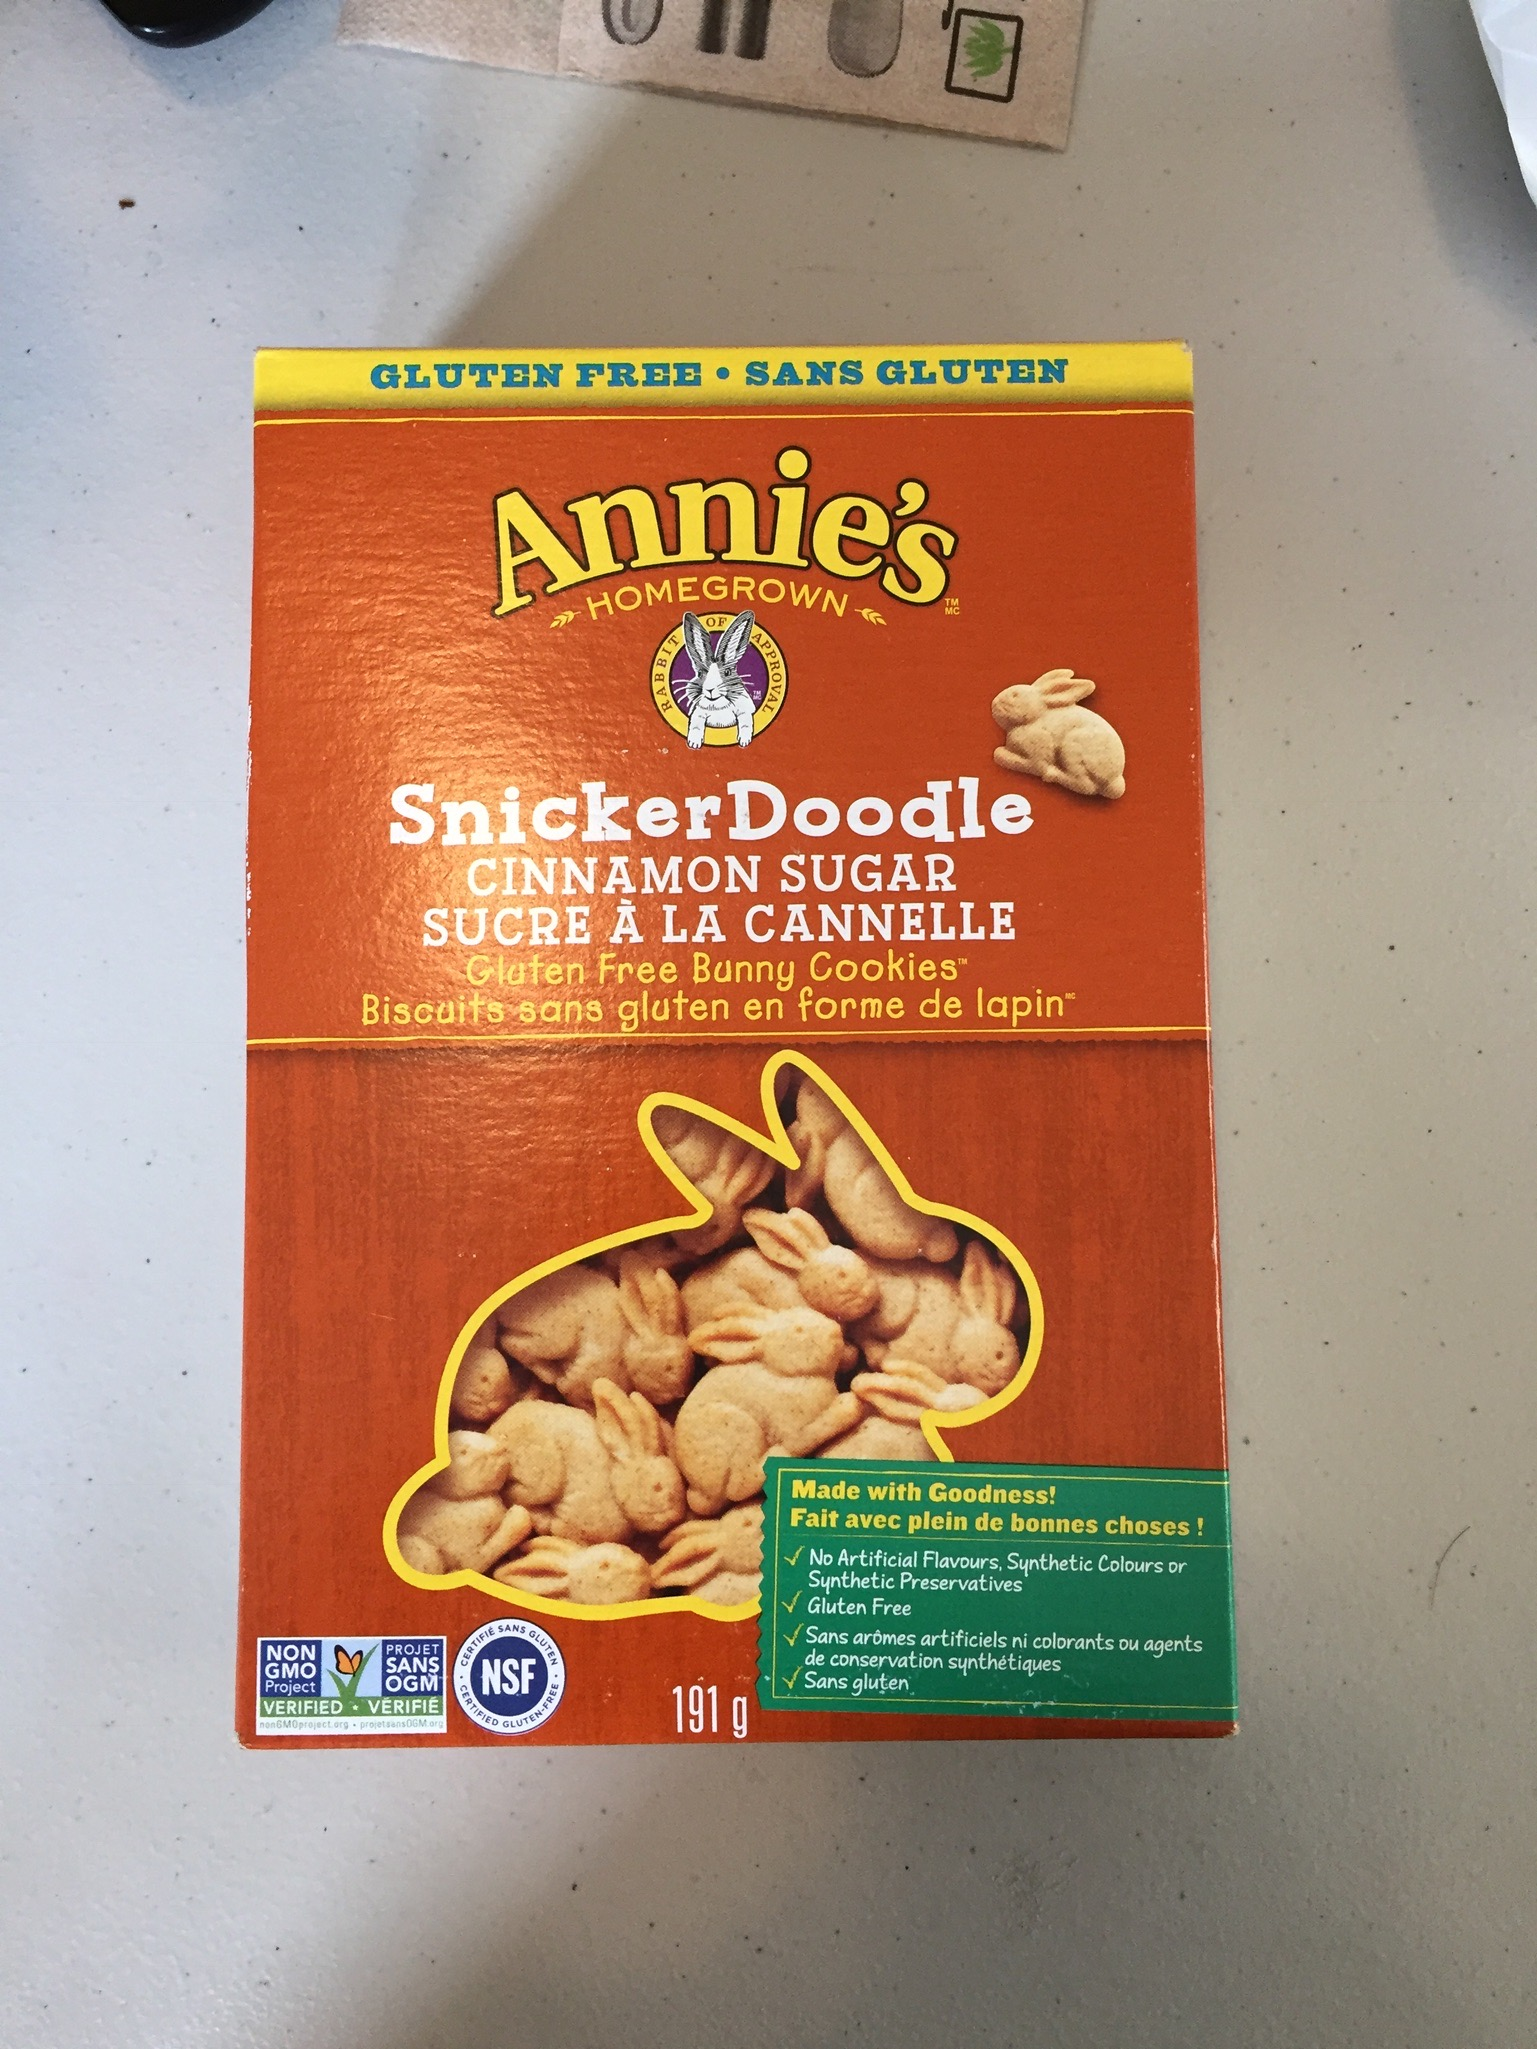annies_snickerdoodle_cinnamon_sugar: (268, 358, 1217, 1744)
